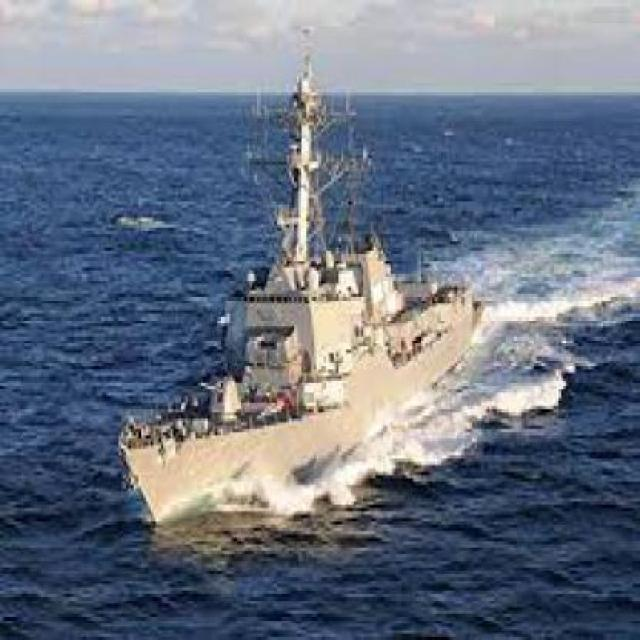warship2: (72, 77, 523, 562)
